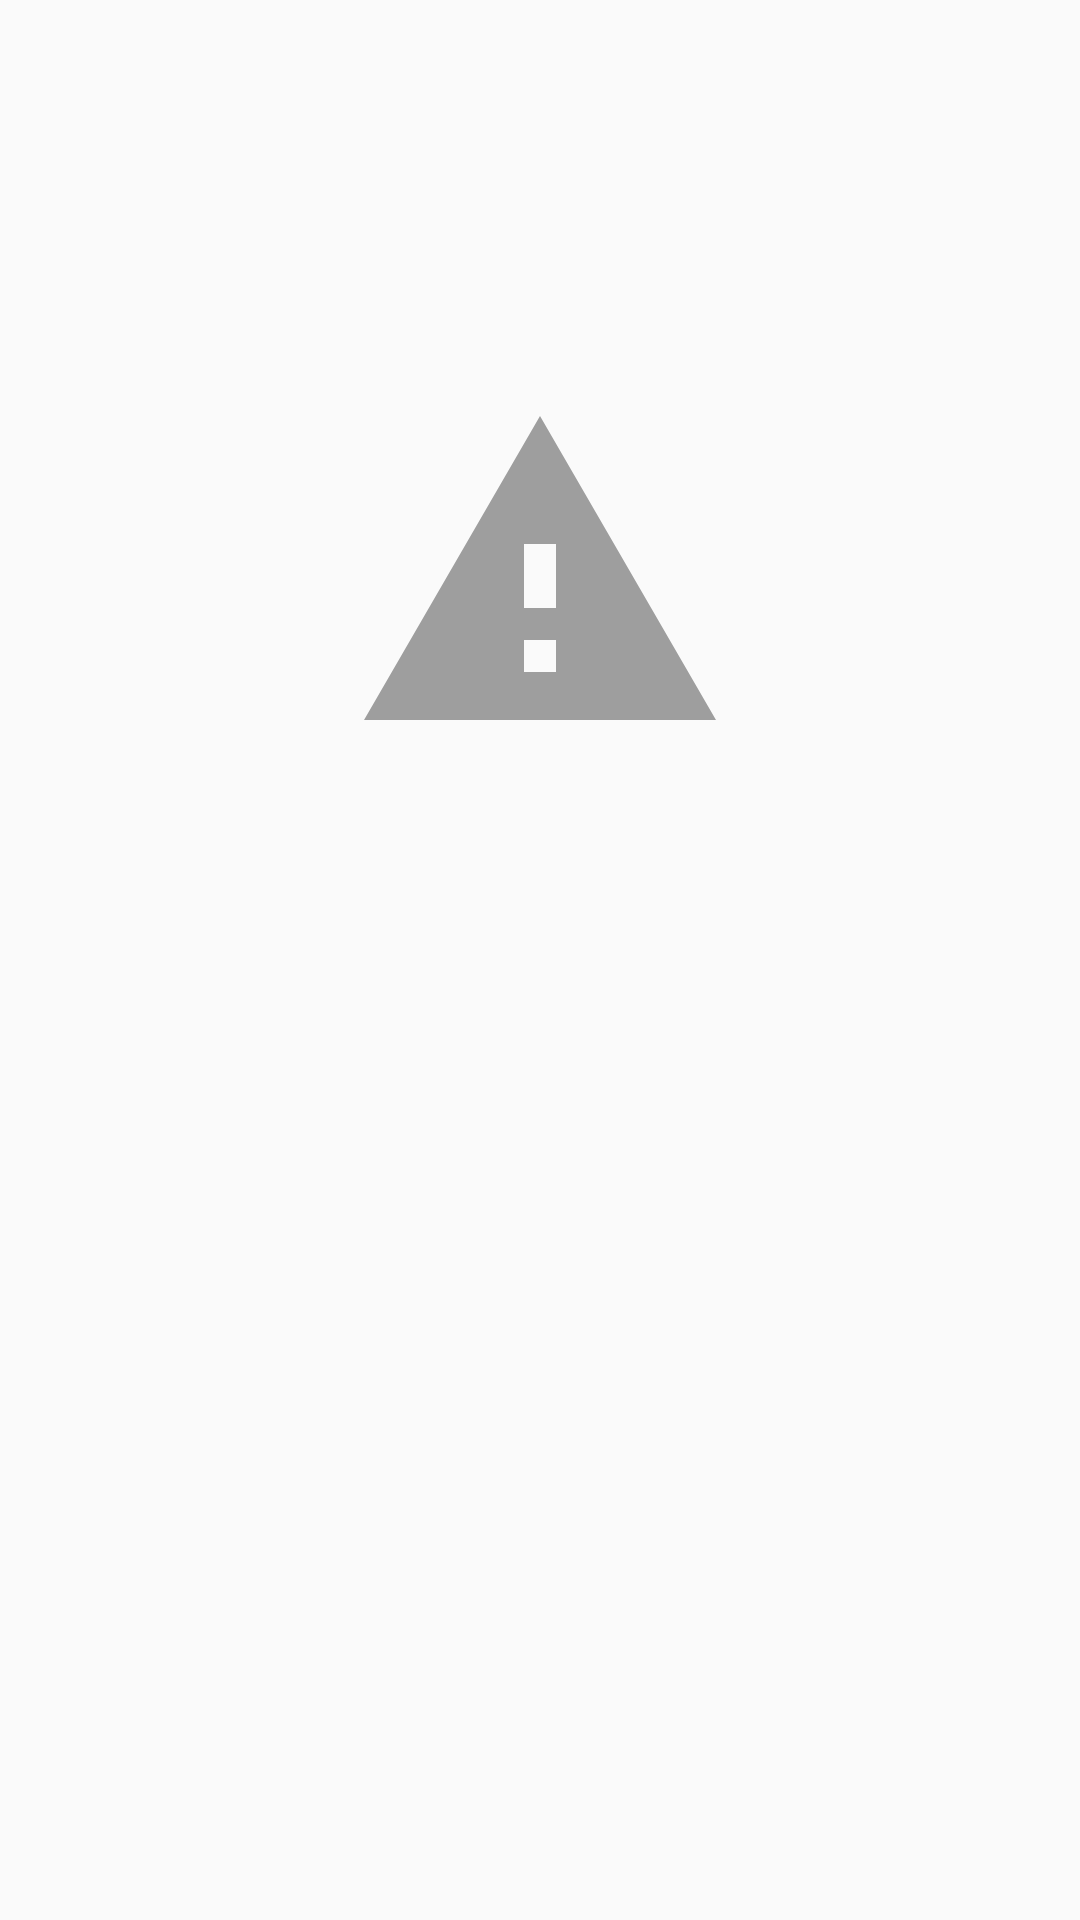

Point at icon controls on the screen. Image size 1080px x 1920px, points as (x,y).
alert: (540,568)
